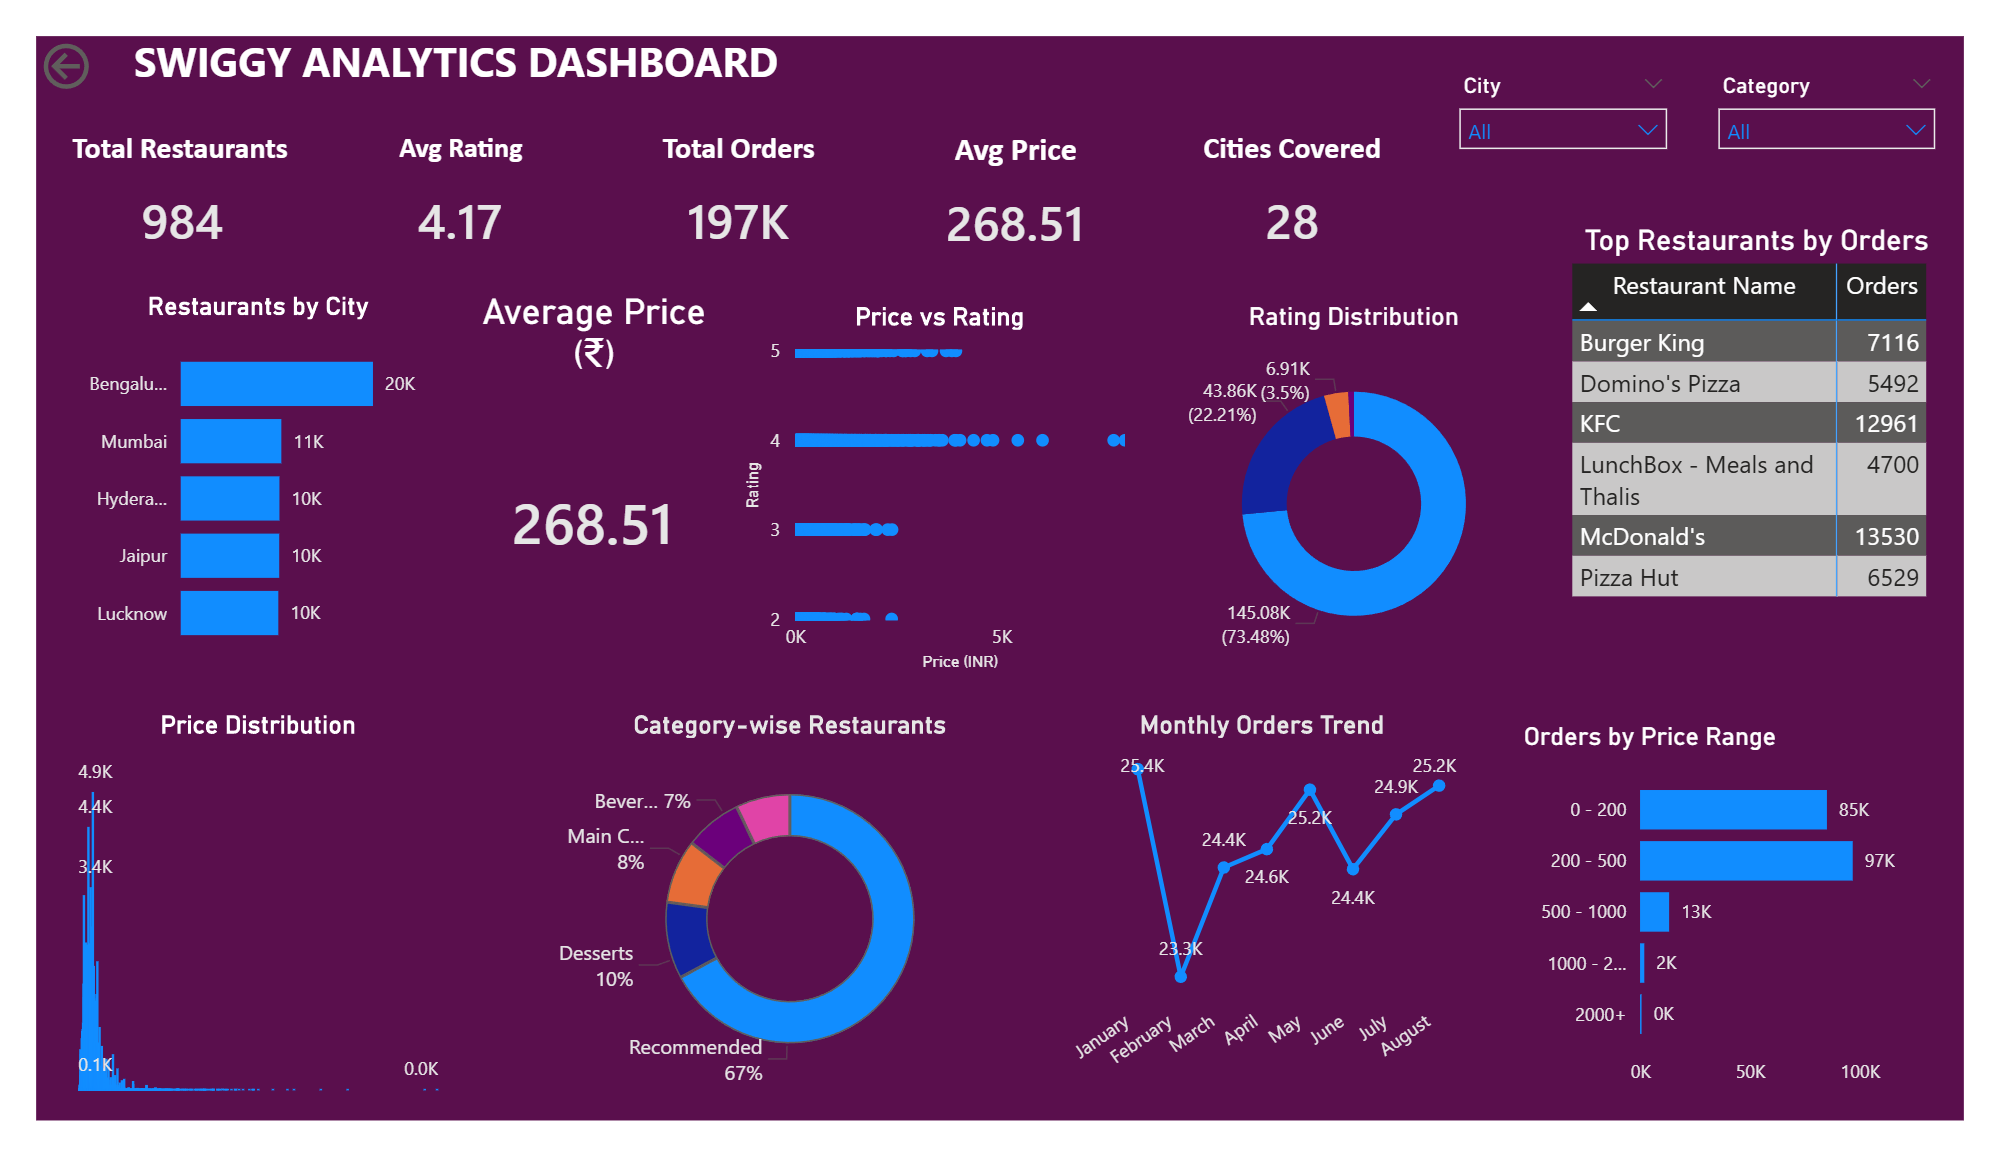

Layout of this report page (visuals, bound fields, positions):
{"tool":"powerbi","page":{"name":"Page 1","canvas":[1280,720],"ordinal":0},"visuals":[{"type":"clusteredBarChart","title":"Restaurants by City","fields":{"Category":["Swiggy Data.City"],"Y":["CountNonNull(Swiggy Data.Restaurant Name)"]},"box":[19.5,169.2,256.8,250],"z":0},{"type":"clusteredColumnChart","title":"Price Distribution","fields":{"Y":["CountNonNull(Swiggy Data.Price (INR))"],"Category":["Swiggy Data.Price (INR)"]},"box":[23.3,447.4,249,258.7],"z":1000},{"type":"scatterChart","title":"Price vs Rating","fields":{"X":["Swiggy Data.Price (INR)"],"Y":["Swiggy Data.Rating"]},"box":[464.9,176,270.4,250],"z":2000},{"type":"cardVisual","title":"Average Price (₹)","fields":{"Data":["Avg(Swiggy Data.Price (INR))"]},"box":[287.4,169.2,166.3,250],"z":3000},{"type":"donutChart","title":"Category-wise Restaurants","fields":{"Category":["Swiggy Data.Category"],"Y":["CountNonNull(Swiggy Data.Restaurant Name)"]},"box":[342.4,447.4,317.1,258.7],"z":4000},{"type":"donutChart","title":"Rating Distribution","fields":{"Category":["Swiggy Data.Rating"],"Y":["CountNonNull(Swiggy Data.Rating)"]},"box":[746.5,176,256.8,250],"z":5000},{"type":"lineChart","title":"Monthly Orders Trend","fields":{"Y":["CountNonNull(Swiggy Data.Restaurant Name)"],"Category":["Swiggy Data.Month"]},"box":[679.9,447.4,268.4,258.7],"z":6000},{"type":"clusteredBarChart","title":"Orders by Price Range","fields":{"Category":["Swiggy Data.Price Range"],"Y":["CountNonNull(Swiggy Data.Restaurant Name)"]},"box":[983.3,455.2,277.2,250.9],"z":7000},{"type":"actionButton","box":[0,0,100,40],"z":8000},{"type":"tableEx","title":"Top Restaurants by Orders","fields":{"Values":["Swiggy Data.Restaurant Name","CountNonNull(Swiggy Data.Restaurant Name)"]},"box":[1014.5,123.5,256.8,315.1],"z":9000},{"type":"cardVisual","title":"Total Restaurants","fields":{"Data":["Swiggy Data.Total Restaurants"]},"box":[19.5,62.2,156.6,93.4],"z":10000},{"type":"cardVisual","title":"Avg Rating","fields":{"Data":["Swiggy Data.Avg Rating"]},"box":[203.3,62.2,157.6,93.4],"z":11000},{"type":"cardVisual","title":"Avg Price","fields":{"Data":["Swiggy Data.Avg Price"]},"box":[571.9,62.2,156.6,93.4],"z":12000},{"type":"cardVisual","title":"Cities Covered","fields":{"Data":["Swiggy Data.Cities Covered"]},"box":[755.7,62.2,156.6,93.4],"z":13000},{"type":"cardVisual","title":"Total Orders","fields":{"Data":["Swiggy Data.Total Orders"]},"box":[388.1,62.2,156.6,93.4],"z":14000},{"type":"slicer","fields":{"Values":["Swiggy Data.City"]},"box":[934.7,20.4,158.5,75.9],"z":15000},{"type":"slicer","fields":{"Values":["Swiggy Data.Category"]},"box":[1106.9,20.4,164.4,75.9],"z":16000},{"type":"textbox","box":[60.3,0,484.4,50.6],"z":17000}]}

Visuals, with their boxes in screenshot pixels (x1, y1, x2, y2), scaled from the page's 1280x720 canvas onto the 2000x1156 screenshot:
"Restaurants by City" clusteredBarChart: (30,272,432,673)
"Price Distribution" clusteredColumnChart: (36,718,425,1134)
"Price vs Rating" scatterChart: (726,283,1149,684)
"Average Price (₹)" cardVisual: (449,272,709,673)
"Category-wise Restaurants" donutChart: (535,718,1030,1134)
"Rating Distribution" donutChart: (1166,283,1568,684)
"Monthly Orders Trend" lineChart: (1062,718,1482,1134)
"Orders by Price Range" clusteredBarChart: (1536,731,1970,1134)
actionButton: (0,0,156,64)
"Top Restaurants by Orders" tableEx: (1585,198,1986,704)
"Total Restaurants" cardVisual: (30,100,275,250)
"Avg Rating" cardVisual: (318,100,564,250)
"Avg Price" cardVisual: (894,100,1138,250)
"Cities Covered" cardVisual: (1181,100,1425,250)
"Total Orders" cardVisual: (606,100,851,250)
slicer - Swiggy Data.City: (1460,33,1708,155)
slicer - Swiggy Data.Category: (1730,33,1986,155)
textbox: (94,0,851,81)
